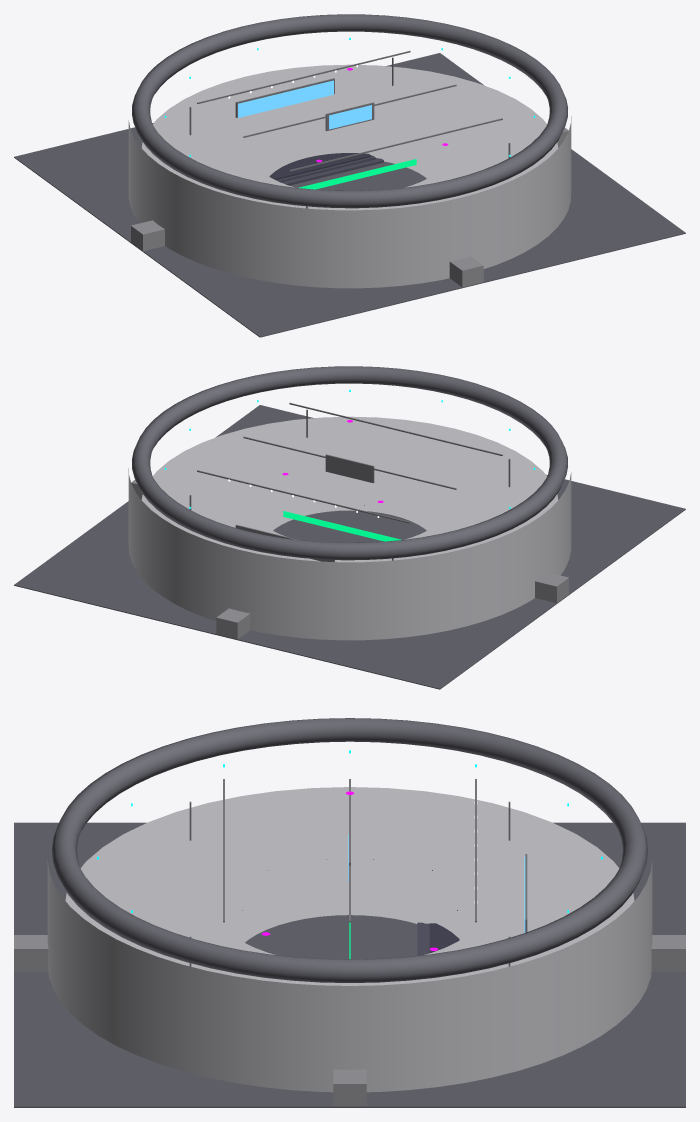
The model's file is stadium-elyseum.glb.
3 renders of one model, top to bottom at view 1: azimuth 30°, elevation 25°; view 2: azimuth 150°, elevation 25°; view 3: azimuth 270°, elevation 25°, orthographic. The views are drawn at different scales.
Visible parts, largest first — view 1: Bowl_Wall, Floor, Seating_Tier3, Roof_Ring, Seating_Tier2, Seating_Tier1, Screen_Main, Stage_Riser, Tunnel_North, Tunnel_West, Ticker_Board, Scoreboard_Screen (+3 smaller); view 2: Bowl_Wall, Floor, Seating_Tier3, Roof_Ring, Seating_Tier2, Seating_Tier1, Scoreboard_Housing, Tunnel_South, Tunnel_West, Ticker_Board, Truss_Rear, Truss_Front; view 3: Bowl_Wall, Floor, Seating_Tier3, Roof_Ring, Seating_Tier2, Seating_Tier1, Tunnel_East, Tunnel_North, Tunnel_South.
Part boxes in pixels (x1,y1,x2,y2): Bowl_Wall: [128, 116, 571, 288]; Floor: [14, 53, 685, 337]; Seating_Tier3: [141, 64, 558, 210]; Roof_Ring: [132, 14, 567, 208]; Seating_Tier2: [252, 123, 447, 170]; Seating_Tier1: [261, 142, 438, 178]; Screen_Main: [238, 80, 333, 117]; Stage_Riser: [269, 153, 371, 179]; Tunnel_North: [449, 256, 483, 287]; Tunnel_West: [131, 220, 164, 251]; Ticker_Board: [298, 159, 416, 189]; Scoreboard_Screen: [329, 105, 371, 129]; Bowl_Wall: [128, 468, 571, 640]; Floor: [14, 405, 685, 689]; Seating_Tier3: [141, 416, 558, 562]; Roof_Ring: [132, 366, 567, 560]; Seating_Tier2: [252, 475, 447, 522]; Seating_Tier1: [261, 494, 438, 530]; Scoreboard_Housing: [325, 454, 374, 483]; Tunnel_South: [216, 608, 250, 639]; Tunnel_West: [535, 572, 568, 603]; Ticker_Board: [283, 511, 401, 541]; Truss_Rear: [289, 403, 502, 455]; Truss_Front: [197, 470, 410, 523]; Bowl_Wall: [47, 860, 652, 1092]; Floor: [14, 822, 685, 1107]; Seating_Tier3: [65, 787, 634, 985]; Roof_Ring: [51, 718, 648, 982]; Seating_Tier2: [217, 866, 482, 931]; Seating_Tier1: [228, 892, 471, 942]; Tunnel_East: [333, 1069, 366, 1106]; Tunnel_North: [14, 935, 48, 971]; Tunnel_South: [651, 935, 685, 971].
Bounding box in the file's own units: 160 × 45.38 × 160.
